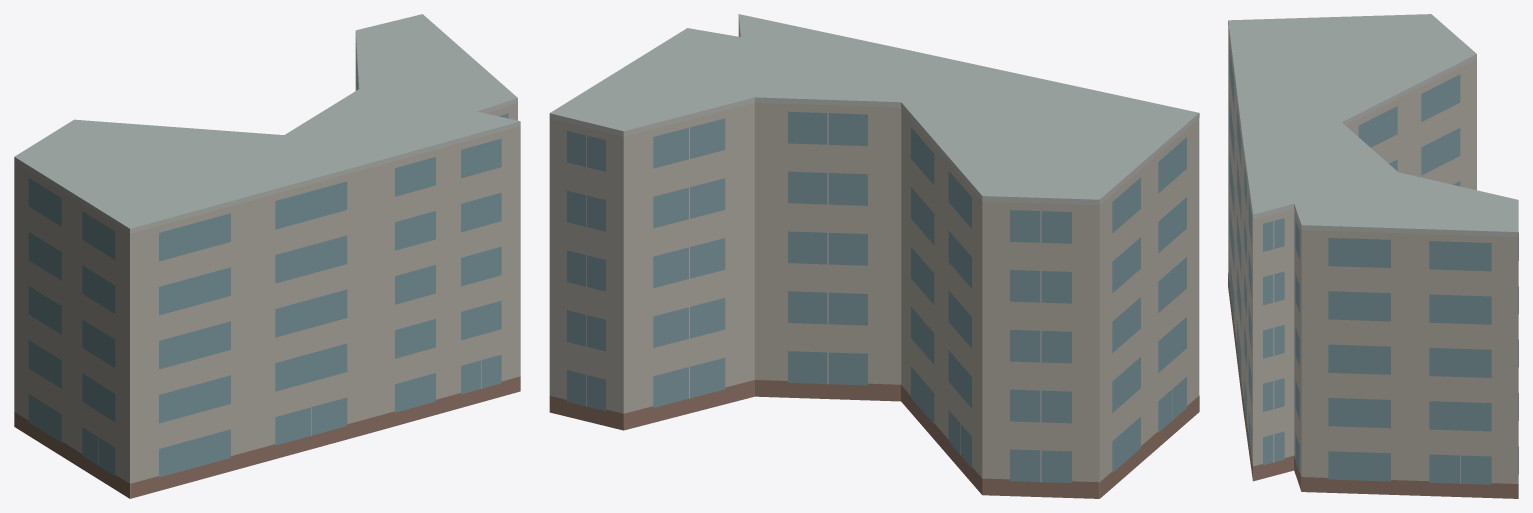
Rendered from survey-upis-32957127.glb.
3 views of the same model, side by side, from view 1: azimuth 30°, elevation 25°; view 2: azimuth 150°, elevation 25°; view 3: azimuth 270°, elevation 25° (orthographic). The views are drawn at different scales.
Parts seen in each view (by area): view 1: survey-upis-32957127.tmp; view 2: survey-upis-32957127.tmp; view 3: survey-upis-32957127.tmp.
Part boxes in pixels (left/top/right/bottom): survey-upis-32957127.tmp: left=14, top=14, right=520, bottom=498; survey-upis-32957127.tmp: left=549, top=14, right=1199, bottom=498; survey-upis-32957127.tmp: left=1228, top=14, right=1518, bottom=498.
Bounding box in the file's own units: 23.5 × 13.4 × 13.24.
